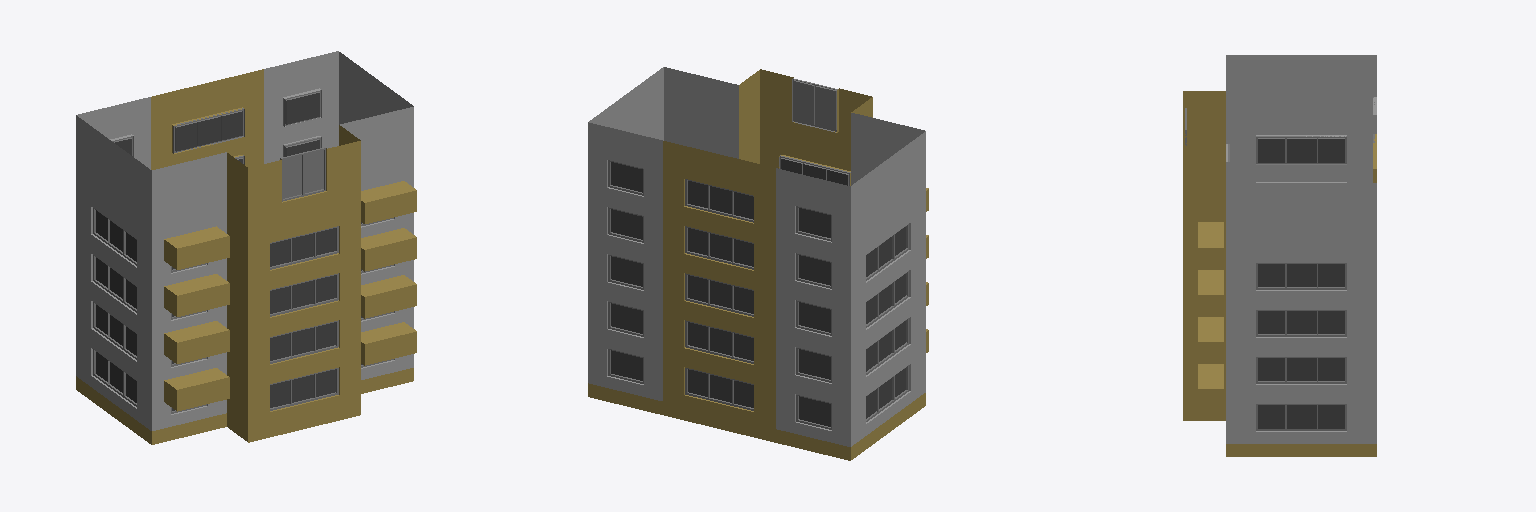
3 views of the same model, side by side, from view 1: azimuth 30°, elevation 25°; view 2: azimuth 150°, elevation 25°; view 3: azimuth 270°, elevation 25° (orthographic).
Parts seen in each view (by area): view 1: Building_8; view 2: Building_8; view 3: Building_8.
Boxes of the visible parts, box(x1,y1,x2,y2) form: Building_8: box(76, 51, 416, 444); Building_8: box(588, 67, 928, 460); Building_8: box(1183, 55, 1376, 456).
Size of the model in its own units: 70 by 70 by 45.
1 materials, 1 textured.